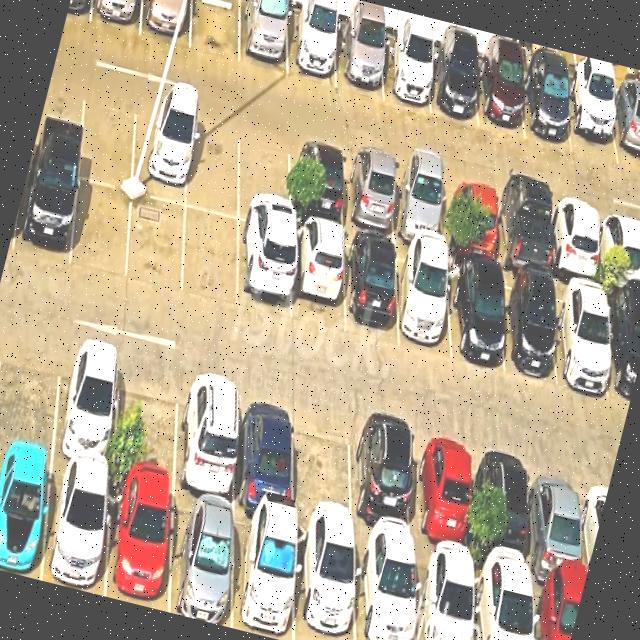empty: (113, 352, 180, 490), (0, 324, 62, 457), (294, 399, 353, 535), (70, 179, 132, 280), (78, 85, 136, 189), (127, 193, 185, 296), (182, 207, 238, 307), (185, 113, 238, 218), (238, 125, 289, 232), (189, 0, 240, 62)
occupied: (52, 336, 120, 474), (41, 461, 109, 596), (168, 492, 233, 628), (106, 477, 171, 612), (175, 368, 238, 505), (351, 413, 413, 549), (231, 508, 294, 640), (234, 383, 294, 517), (414, 426, 469, 564), (532, 453, 585, 588), (294, 523, 355, 640), (12, 161, 78, 267), (552, 280, 611, 396), (0, 450, 52, 580), (481, 441, 531, 576), (496, 272, 556, 380), (446, 261, 504, 372), (131, 99, 191, 205), (396, 246, 451, 359), (344, 233, 399, 343), (355, 540, 415, 640), (291, 221, 344, 332), (415, 551, 474, 640), (494, 186, 550, 278), (237, 222, 289, 321), (290, 138, 343, 228), (443, 174, 496, 263), (392, 161, 444, 248), (564, 79, 617, 164), (473, 565, 533, 640), (344, 150, 395, 238), (550, 198, 600, 284), (522, 66, 571, 152), (604, 292, 640, 406), (427, 47, 477, 126), (477, 55, 524, 139), (287, 8, 336, 88), (381, 35, 430, 113), (239, 0, 287, 76), (598, 208, 640, 294), (336, 24, 382, 98), (531, 577, 583, 640), (607, 89, 640, 170), (140, 0, 192, 47), (90, 0, 142, 35)
